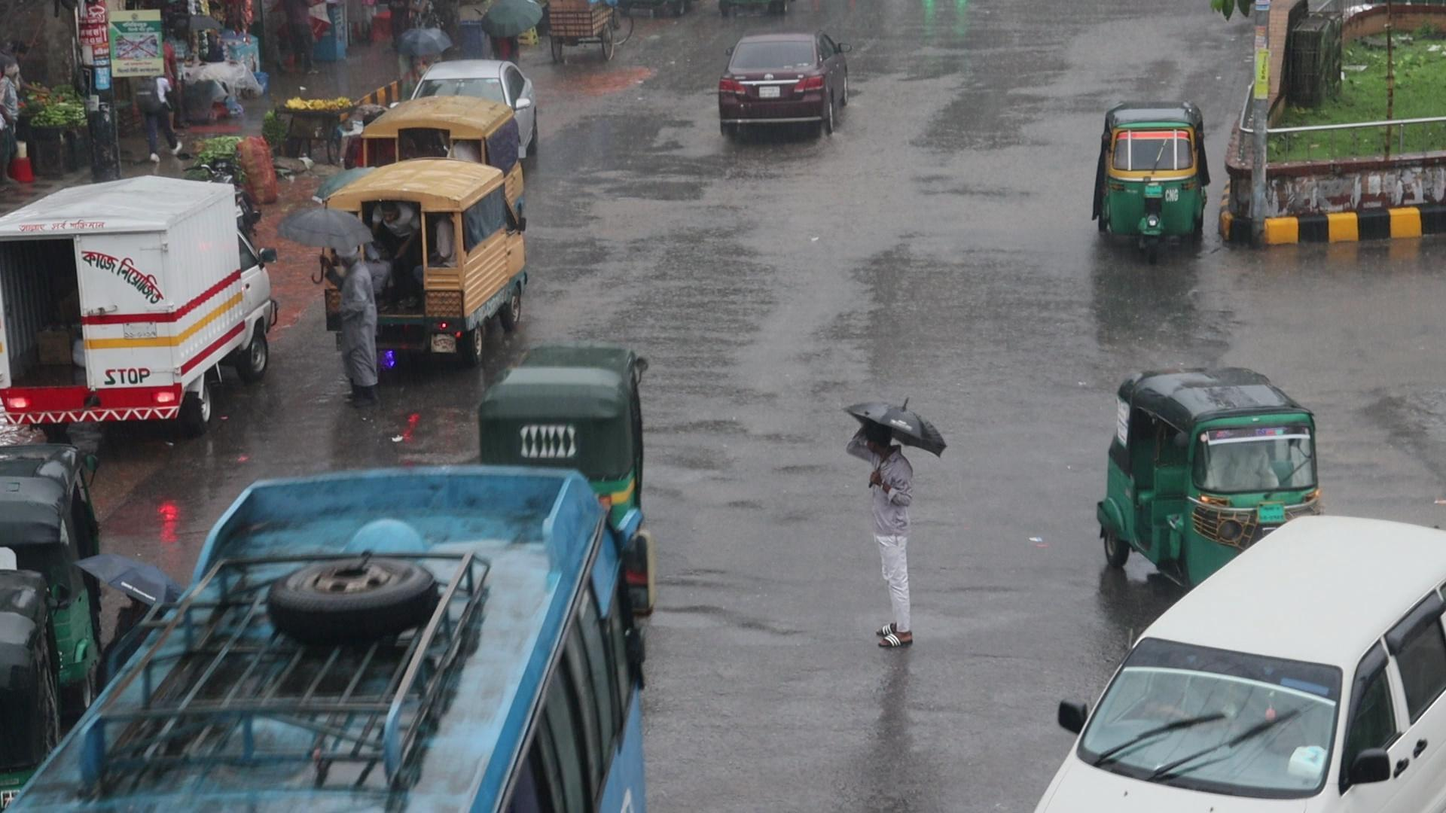Car: (1043, 495, 1446, 813), (705, 29, 848, 163)
Truck: (309, 155, 522, 384)
